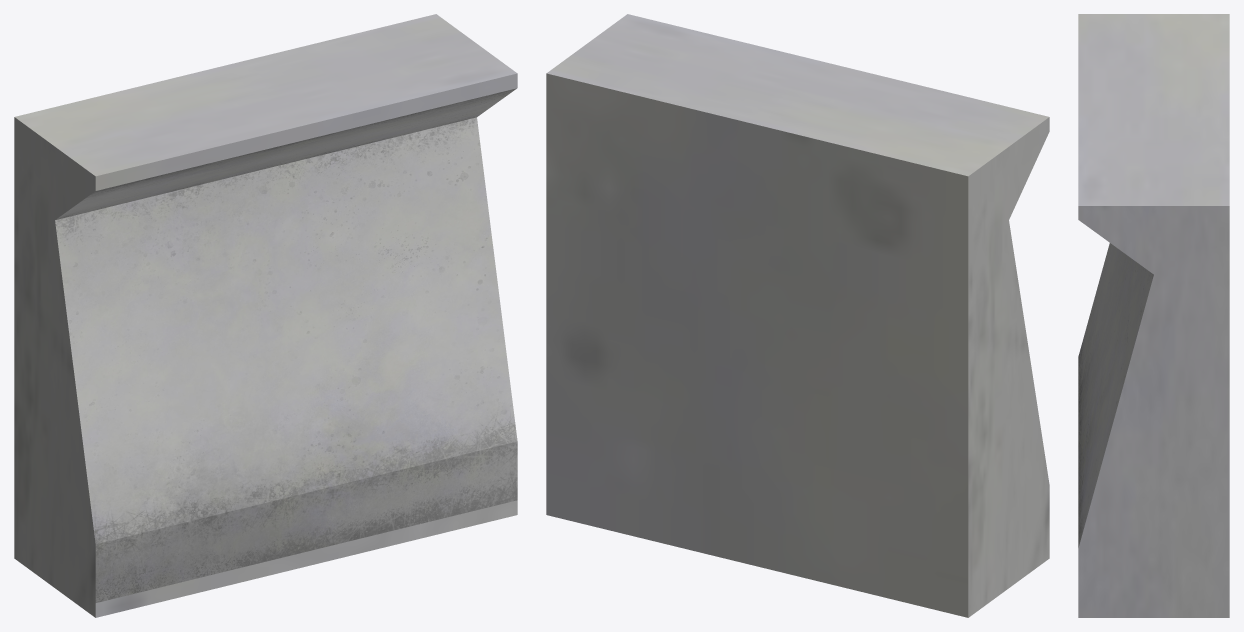
File: cdProperGLExporter_BlenderRender.glb
The picture shows the model from 3 angles, left to right: view 1: azimuth 30°, elevation 25°; view 2: azimuth 150°, elevation 25°; view 3: azimuth 270°, elevation 25°; orthographic projection. The views are drawn at different scales.
Visible parts, largest first — view 1: cdSpaceWall_001; view 2: cdSpaceWall_001; view 3: cdSpaceWall_001.
Boxes of the visible parts, bbox=[...] form: cdSpaceWall_001: bbox=[14, 14, 517, 617]; cdSpaceWall_001: bbox=[546, 14, 1049, 617]; cdSpaceWall_001: bbox=[1078, 14, 1229, 617].
Size of the model in its own units: 6 by 6 by 2.
Materials: 1 (1 with a texture image).
